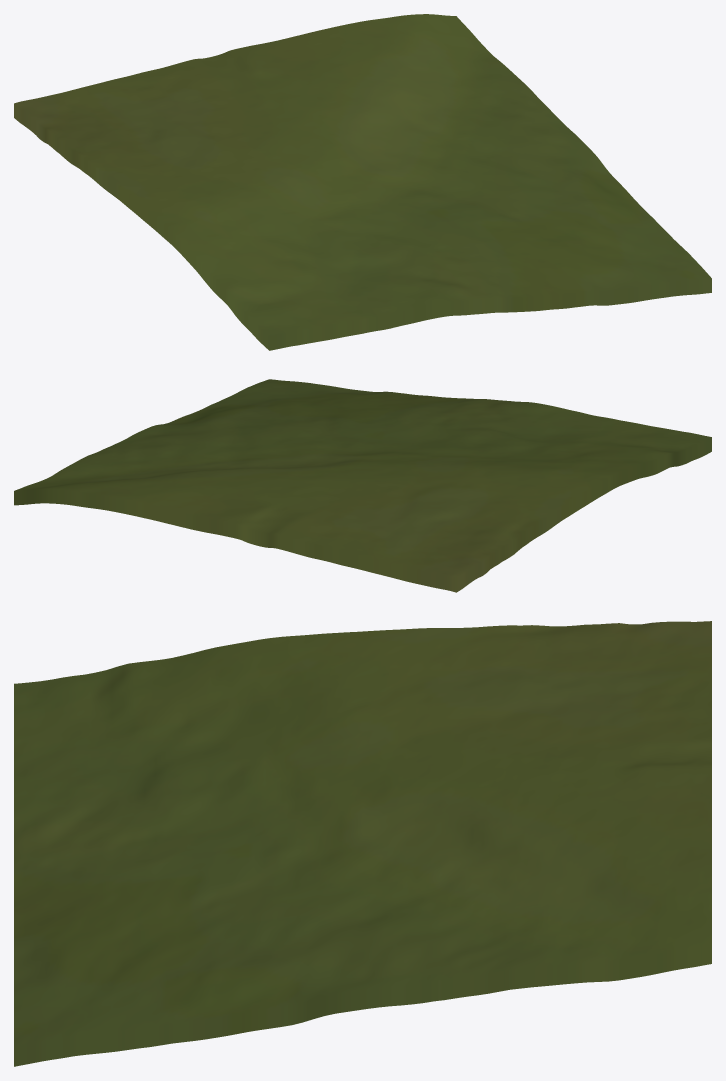
Rendered from terrain_1_-4.glb.
3 views of the same model, one above another, from view 1: azimuth 30°, elevation 25°; view 2: azimuth 150°, elevation 25°; view 3: azimuth 270°, elevation 25° (orthographic). The views are drawn at different scales.
Parts seen in each view (by area): view 1: terrain_1_-4; view 2: terrain_1_-4; view 3: terrain_1_-4.
Boxes of the visible parts, <box> form: terrain_1_-4: <box>14,14,711,350</box>; terrain_1_-4: <box>14,379,711,592</box>; terrain_1_-4: <box>14,621,711,1066</box>.
Bounding box in the file's own units: 256 × 61.22 × 256.
